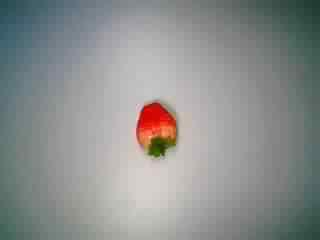strawberry: (117, 96, 183, 162)
